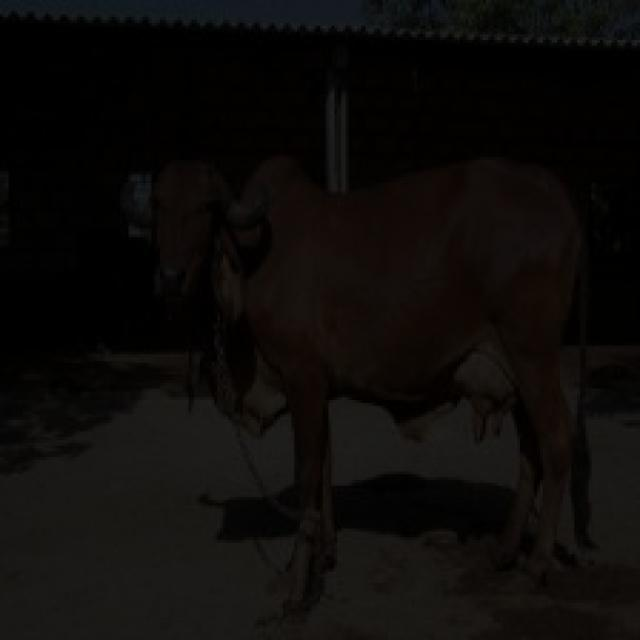animal: (104, 113, 633, 628)
